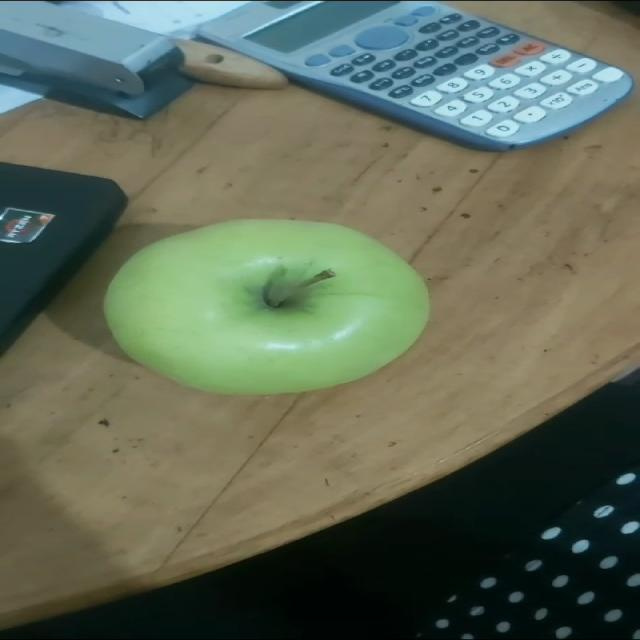50-_ripeness: (101, 218, 428, 396)
